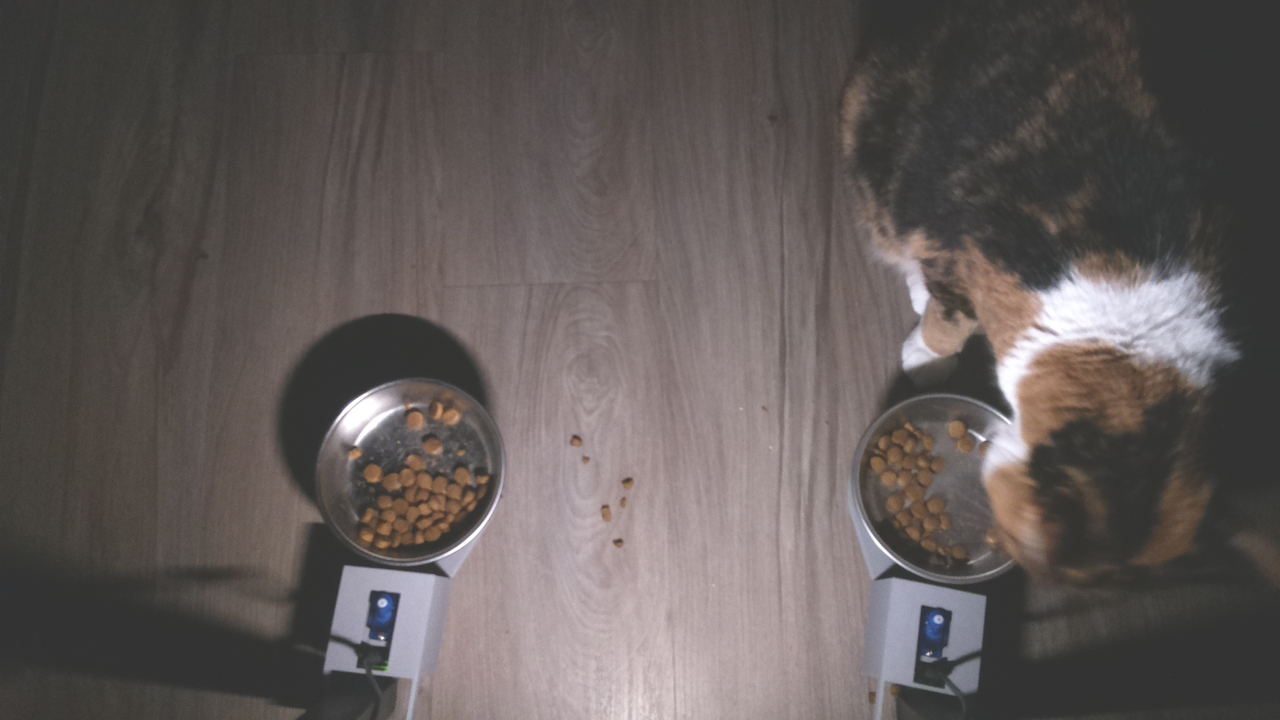bella: (1000, 314, 1276, 605)
open_bowl: (313, 372, 506, 572), (851, 396, 1008, 590)
